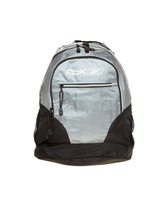bag: (28, 37, 138, 168)
